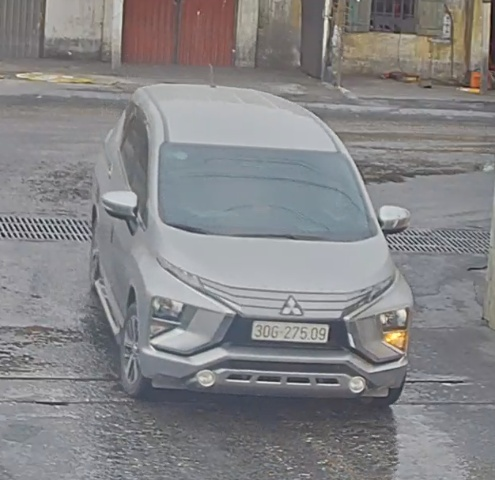vehicle plate: (249, 313, 332, 345)
